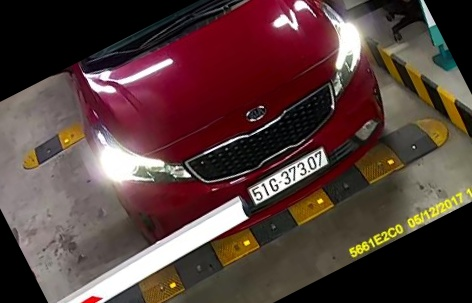plate: (245, 151, 329, 204)
